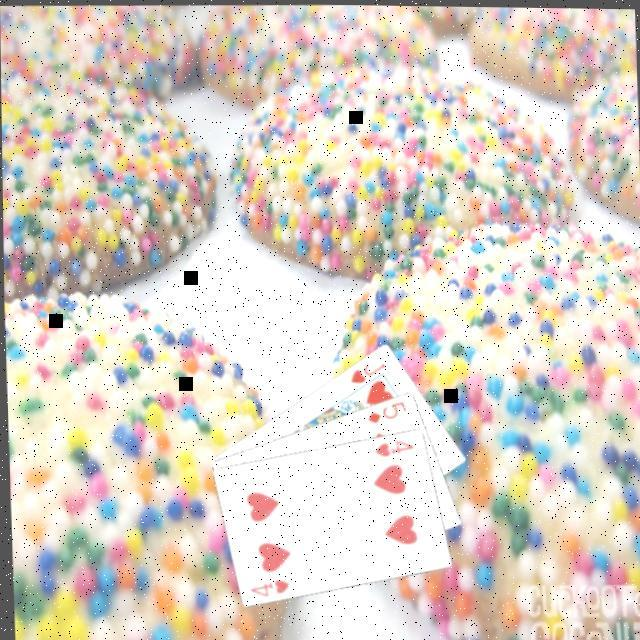4H: (244, 572, 290, 598), (369, 433, 413, 459)
5D: (361, 394, 407, 424)
JH: (345, 356, 387, 383)
